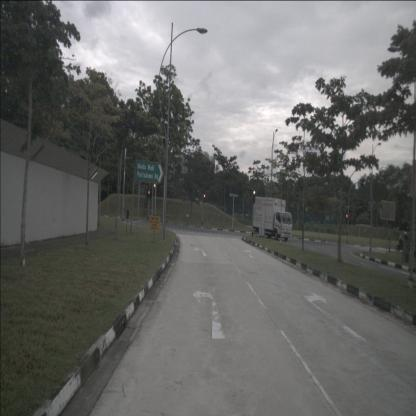vehicle-motorcycle: (396, 231, 410, 253)
vehicle-truck: (252, 198, 291, 242)
